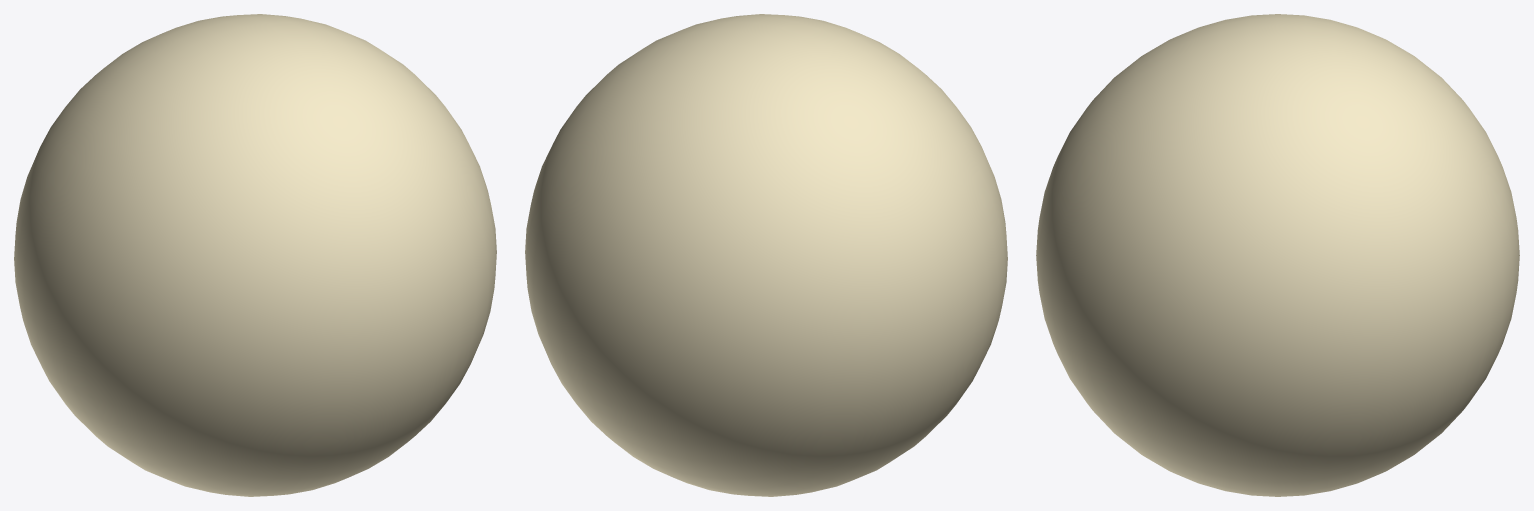
The model's file is example.gltf.
The picture shows the model from 3 angles, left to right: view 1: azimuth 30°, elevation 25°; view 2: azimuth 150°, elevation 25°; view 3: azimuth 270°, elevation 25°; orthographic projection.
Parts seen in each view (by area): view 1: cube_sphere; view 2: cube_sphere; view 3: cube_sphere.
Boxes of the visible parts, x1,y1,x2,y2 form: cube_sphere: [14, 14, 496, 496]; cube_sphere: [525, 14, 1007, 496]; cube_sphere: [1036, 14, 1519, 496].
Size of the model in its own units: 2 by 2 by 2.
